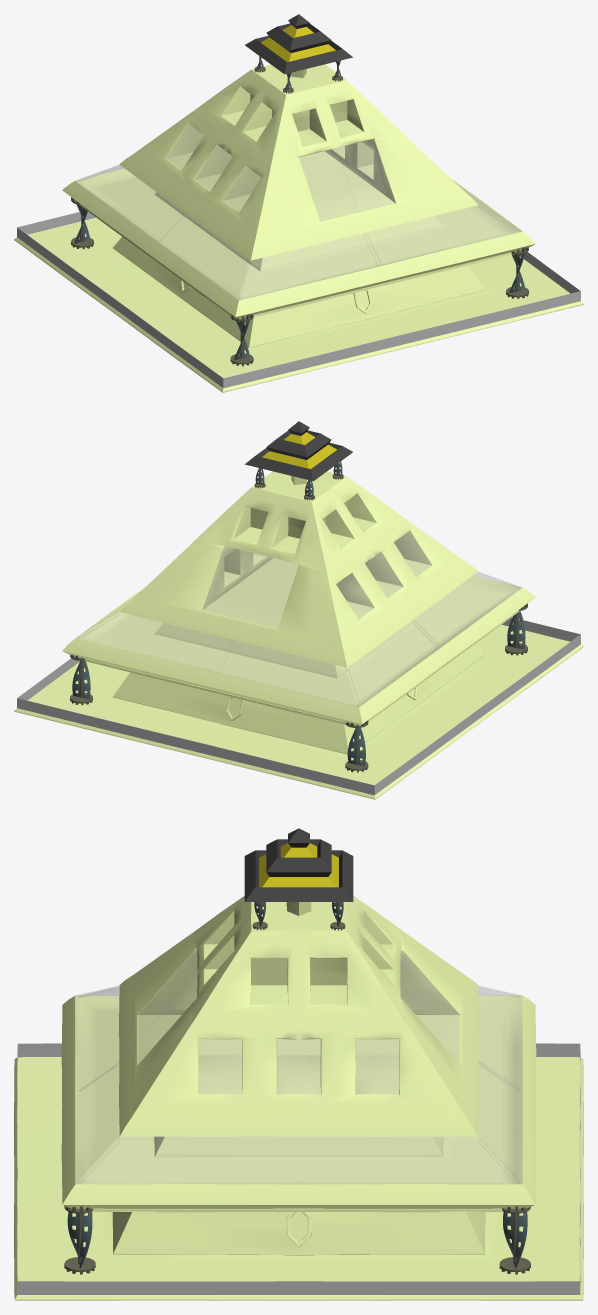
File: environment.fbx
3 views of the same model, one above another, from view 1: azimuth 30°, elevation 25°; view 2: azimuth 150°, elevation 25°; view 3: azimuth 270°, elevation 25° (orthographic). The views are drawn at different scales.
Visible parts, largest first — view 1: MB___Pyramid, PAREDES_INVERNADERO, PANELES_PISO_2, VALLA_PISO1, Pyramid; view 2: MB___Pyramid, PAREDES_INVERNADERO, PANELES_PISO_2, VALLA_PISO1, Pyramid, PANEL_AERORGY_1_8, PANEL_AERORGY_1_2, PANEL_AERORGY_1; view 3: MB___Pyramid, PAREDES_INVERNADERO, PANELES_PISO_2, VALLA_PISO1, Pyramid, PANEL_AERORGY_1_7, PANEL_AERORGY_1_8, BASE_ERORGY_1_7, BASE_ERORGY_1_8.
Part boxes in pixels (x1,y1,x2,y2): MB___Pyramid: (14, 64, 583, 392); PAREDES_INVERNADERO: (76, 164, 521, 300); PANELES_PISO_2: (166, 124, 395, 221); VALLA_PISO1: (17, 211, 580, 388); Pyramid: (245, 14, 352, 74); MB___Pyramid: (14, 471, 583, 799); PAREDES_INVERNADERO: (76, 571, 521, 707); PANELES_PISO_2: (202, 531, 431, 628); VALLA_PISO1: (17, 617, 580, 795); Pyramid: (245, 421, 352, 481); PANEL_AERORGY_1_8: (72, 660, 90, 699); PANEL_AERORGY_1_2: (507, 611, 525, 649); PANEL_AERORGY_1: (347, 727, 365, 766); MB___Pyramid: (14, 896, 583, 1300); PAREDES_INVERNADERO: (76, 985, 521, 1183); PANELES_PISO_2: (138, 948, 459, 1094); VALLA_PISO1: (17, 1043, 580, 1294); Pyramid: (244, 828, 353, 901); PANEL_AERORGY_1_7: (67, 1212, 92, 1268); PANEL_AERORGY_1_8: (503, 1211, 527, 1268); BASE_ERORGY_1_7: (64, 1206, 95, 1274); BASE_ERORGY_1_8: (499, 1206, 530, 1274).
Size of the model in its own units: 6293 by 4300 by 6293.
